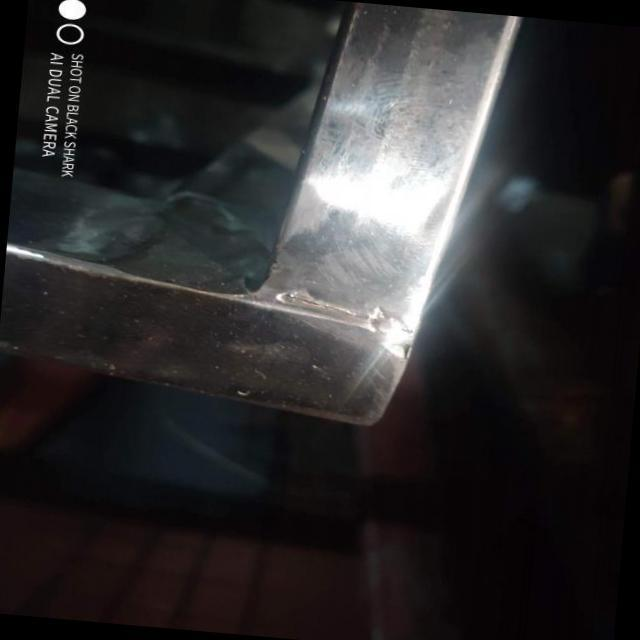defect: (278, 292, 370, 320)
